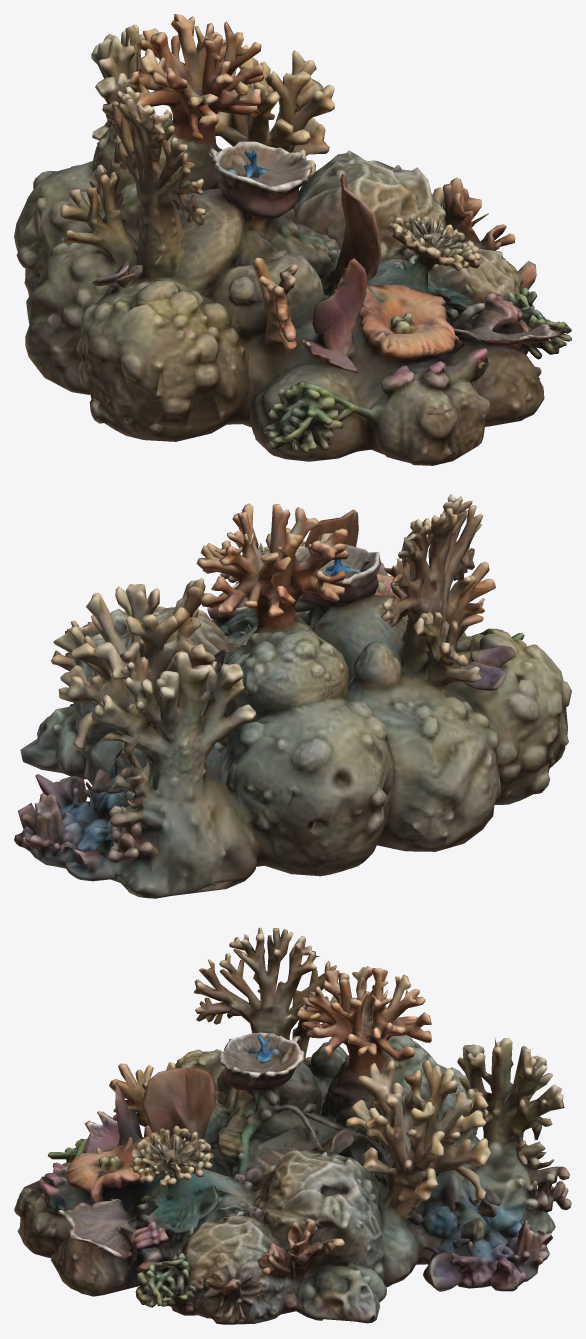
Rendered from reef-garden.glb.
3 views of the same model, one above another, from view 1: azimuth 30°, elevation 25°; view 2: azimuth 150°, elevation 25°; view 3: azimuth 270°, elevation 25° (orthographic). The views are drawn at different scales.
Visible parts, largest first — view 1: tripo_node_4dfc9400-52df-48c6-86c6-679832956cac; view 2: tripo_node_4dfc9400-52df-48c6-86c6-679832956cac; view 3: tripo_node_4dfc9400-52df-48c6-86c6-679832956cac.
Boxes of the visible parts, x1=… form: tripo_node_4dfc9400-52df-48c6-86c6-679832956cac: x1=14, y1=14, x2=571, y2=465; tripo_node_4dfc9400-52df-48c6-86c6-679832956cac: x1=14, y1=494, x2=571, y2=898; tripo_node_4dfc9400-52df-48c6-86c6-679832956cac: x1=14, y1=927, x2=571, y2=1324.
Size of the model in its own units: 0.785 by 0.4951 by 0.9996.
Materials: 1 (1 with a texture image).
